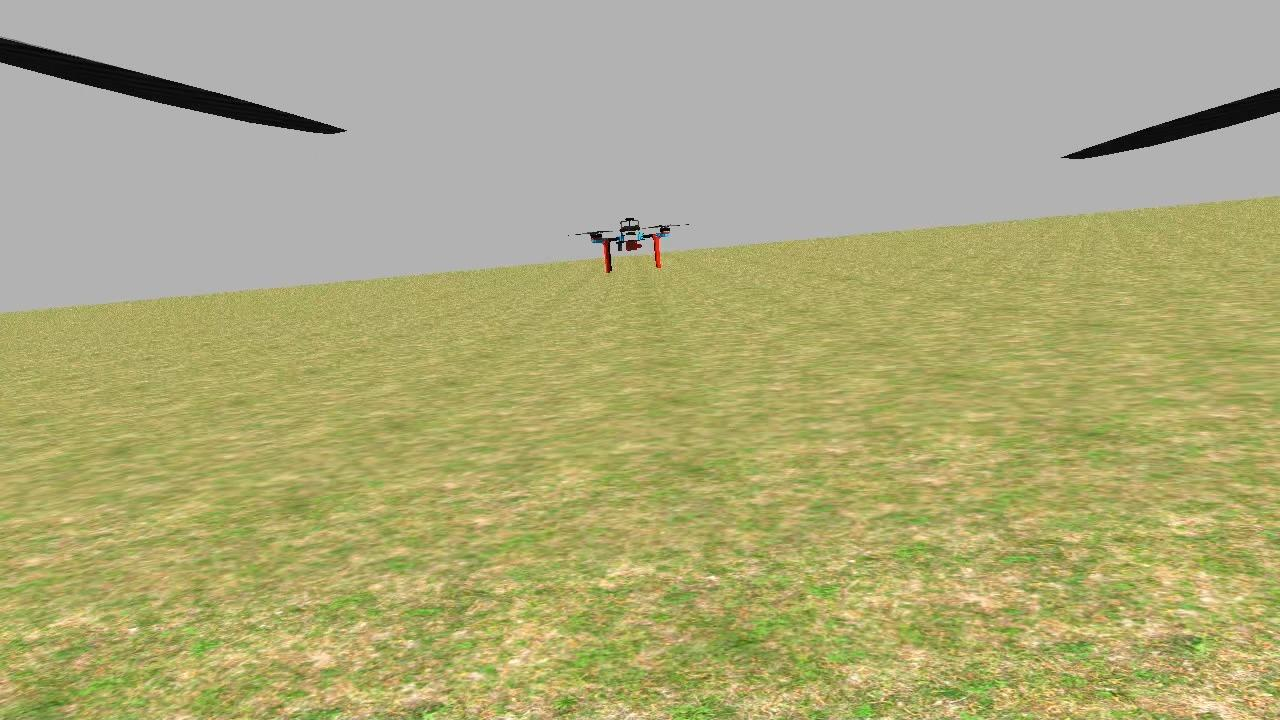UAV: (584, 209, 676, 279)
